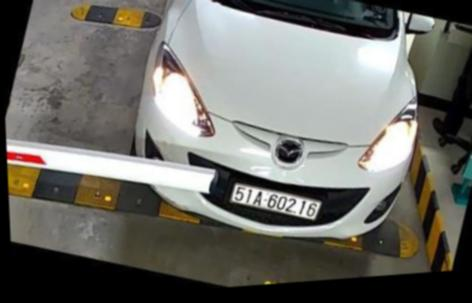License_Plate: (229, 174, 324, 232)
